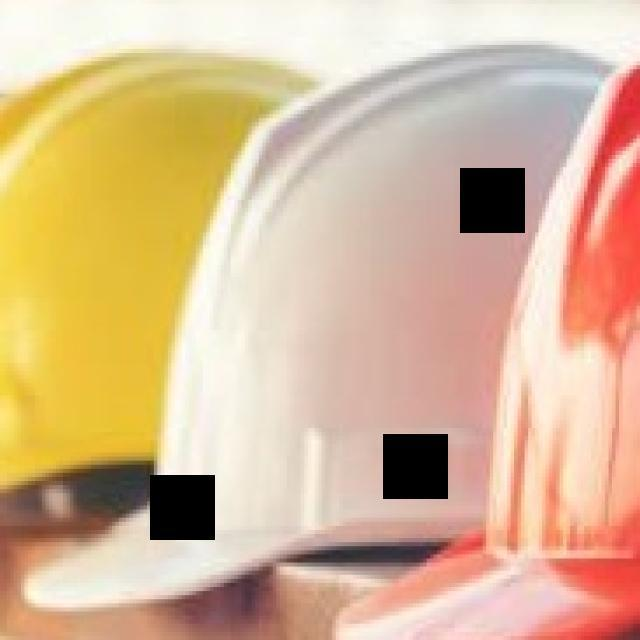red helmet: (304, 49, 640, 639)
white helmet: (20, 32, 619, 615)
yellow helmet: (1, 39, 336, 540)
